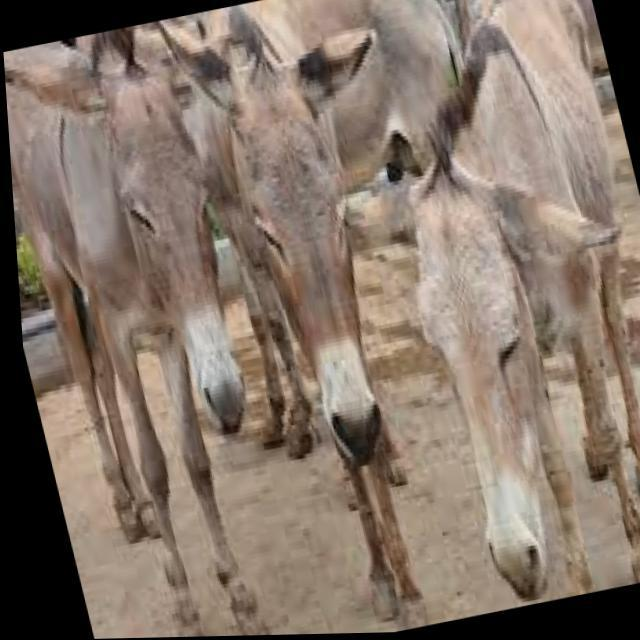Donkey: (310, 95, 640, 627), (171, 4, 474, 494), (1, 14, 285, 493)
